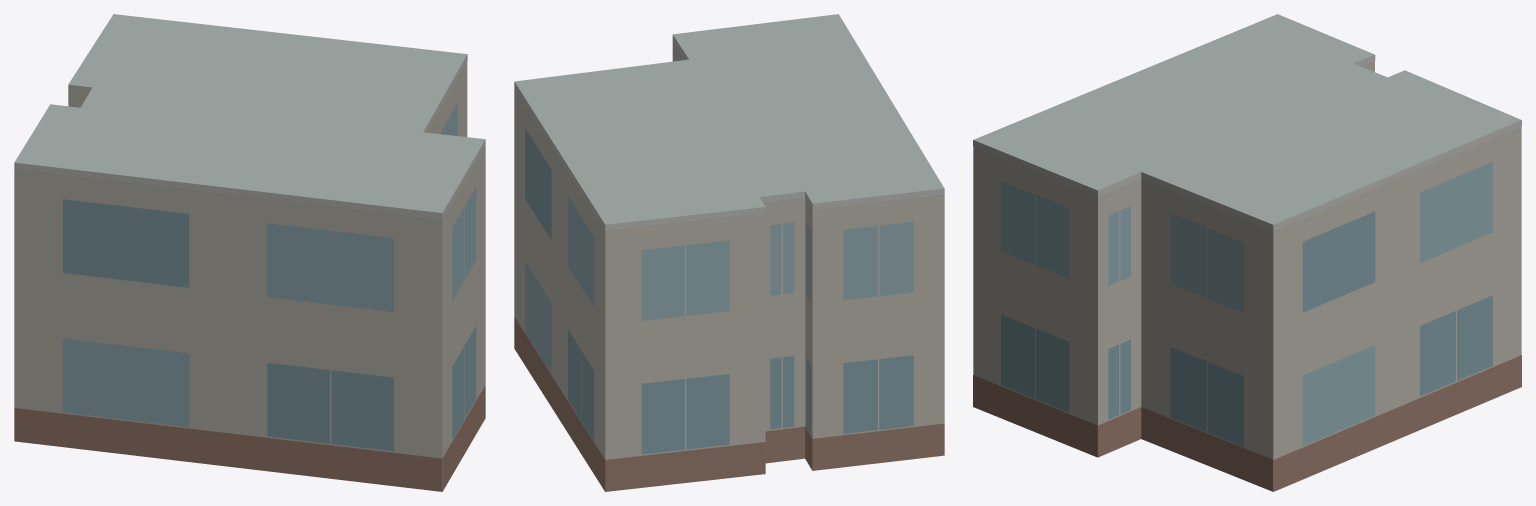
File: survey-upis-33012956.glb
3 views of the same model, side by side, from view 1: azimuth 30°, elevation 25°; view 2: azimuth 150°, elevation 25°; view 3: azimuth 270°, elevation 25° (orthographic). The views are drawn at different scales.
Visible parts, largest first — view 1: survey-upis-33012956.tmp; view 2: survey-upis-33012956.tmp; view 3: survey-upis-33012956.tmp.
Part boxes in pixels (x1,y1,x2,y2): survey-upis-33012956.tmp: [14, 14, 485, 491]; survey-upis-33012956.tmp: [514, 14, 944, 491]; survey-upis-33012956.tmp: [973, 14, 1521, 491].
Bounding box in the file's own units: 18.33 × 10.82 × 20.15.
